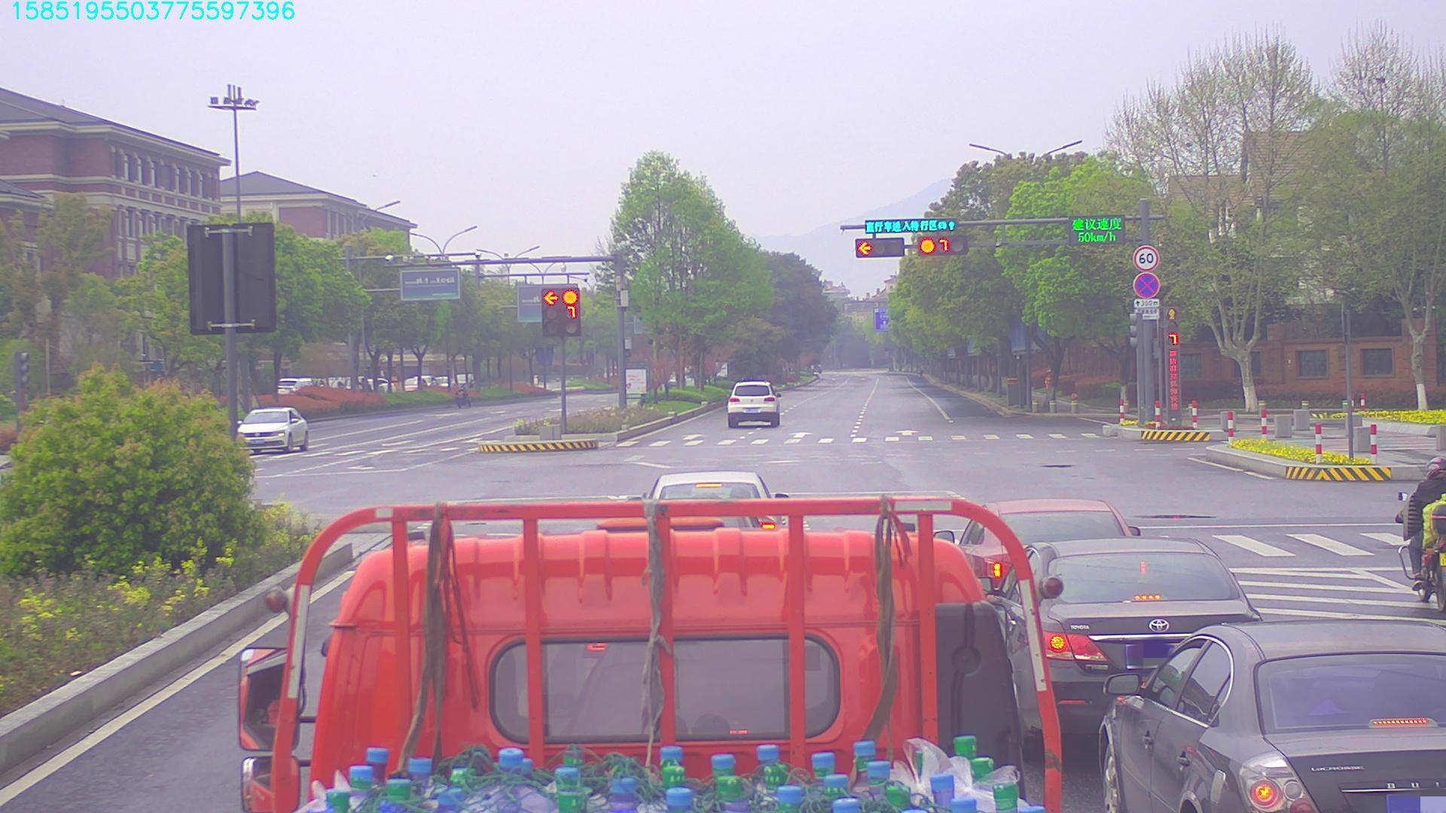red: (858, 237, 900, 255), (919, 242, 964, 257)
wait_on: (870, 217, 955, 231)
